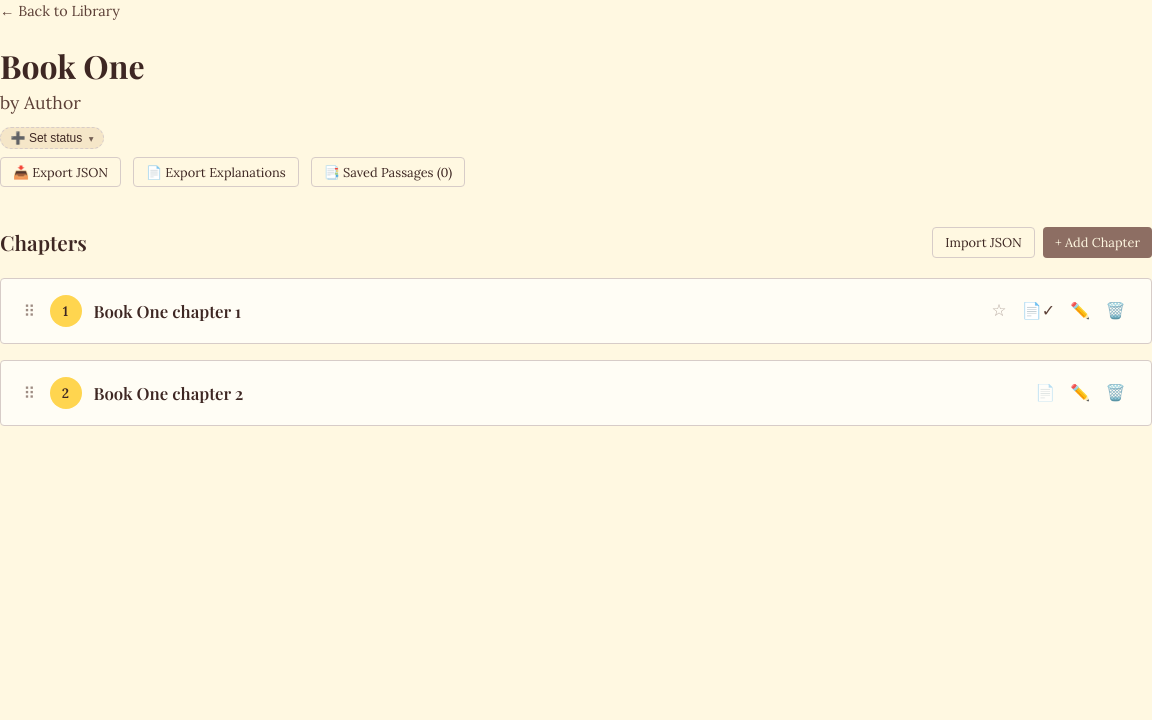
explanations, bookmarks and saved passages › opens an explanation for reading and deletes it
Click the button titled "View / edit explanation" at (1038, 311), box [1016,295,1061,327]
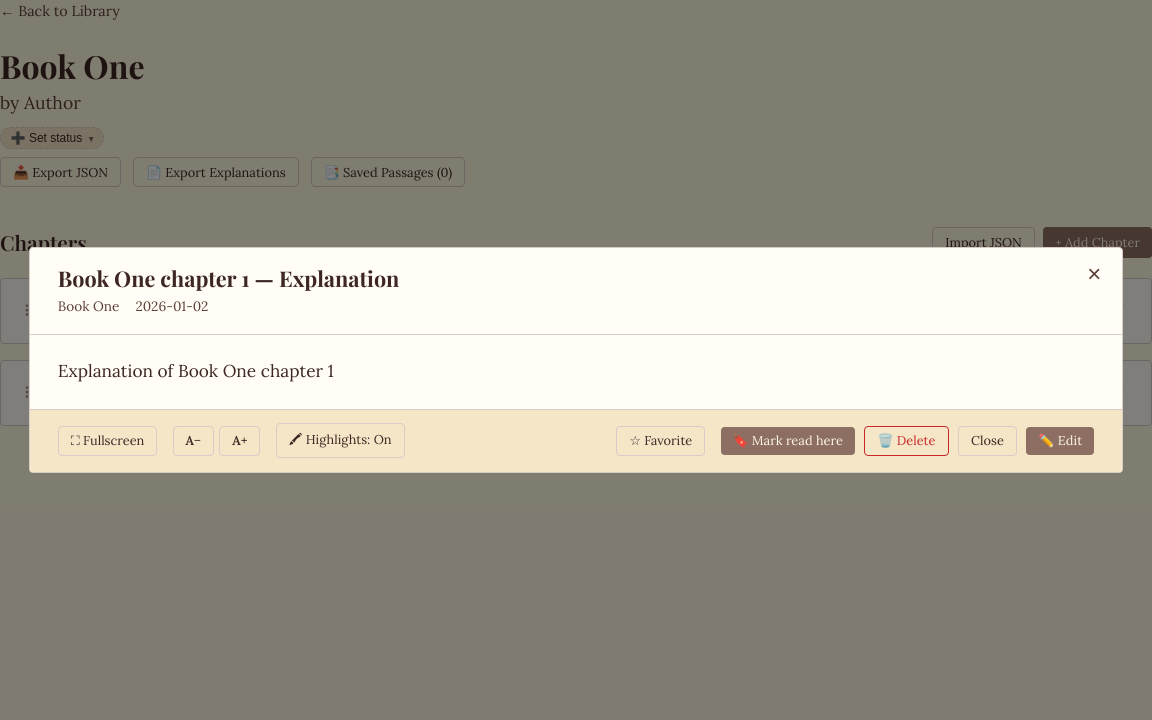
Expected: the text "Explanation of Book One chapter 1" is shown, [58,360,334,382]
Expected: the heading "Book One chapter 1 — Explanation" is shown, [58,264,399,292]
Click the button "🗑️ Delete" at (906, 441), box [864,426,948,456]
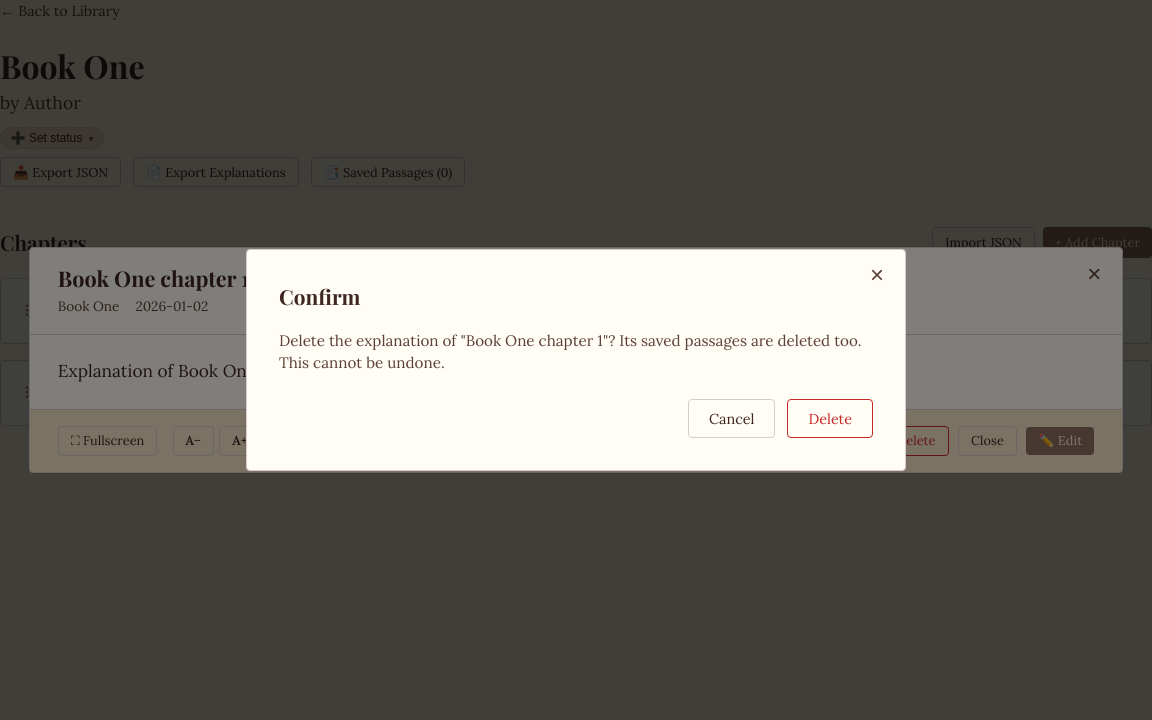
Click the button "Delete" at (830, 419), box [788,399,873,438]
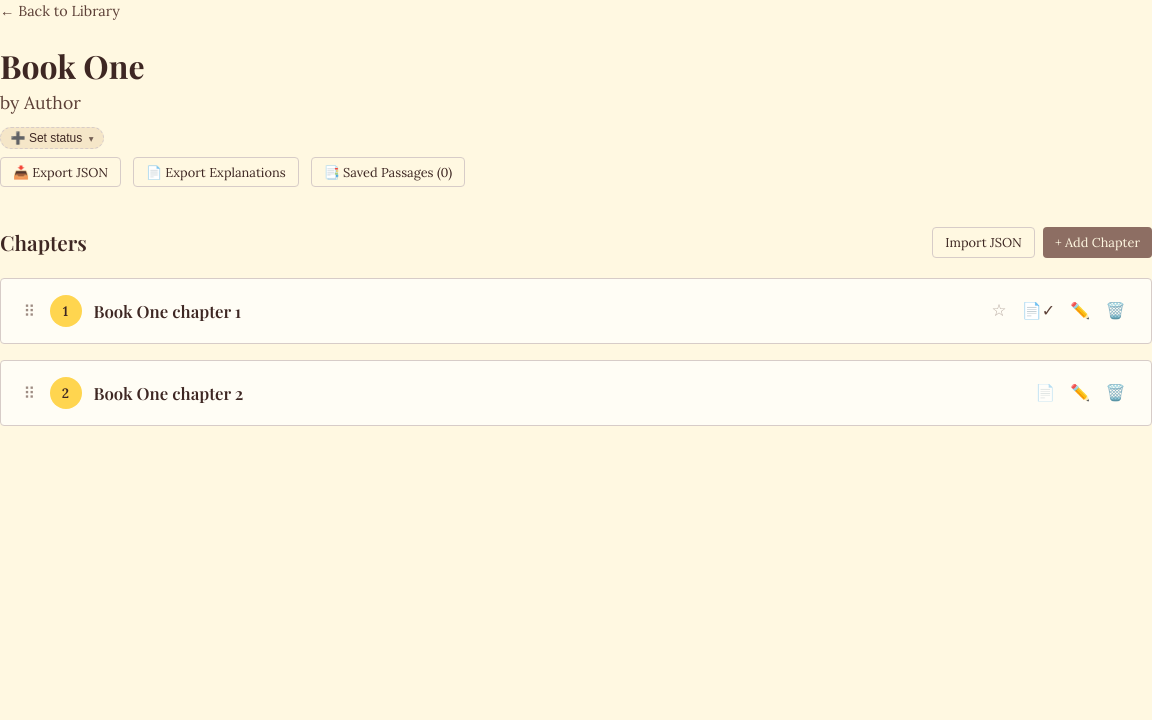
Expected: the text "Explanation of Book One chapter 1" is gone
